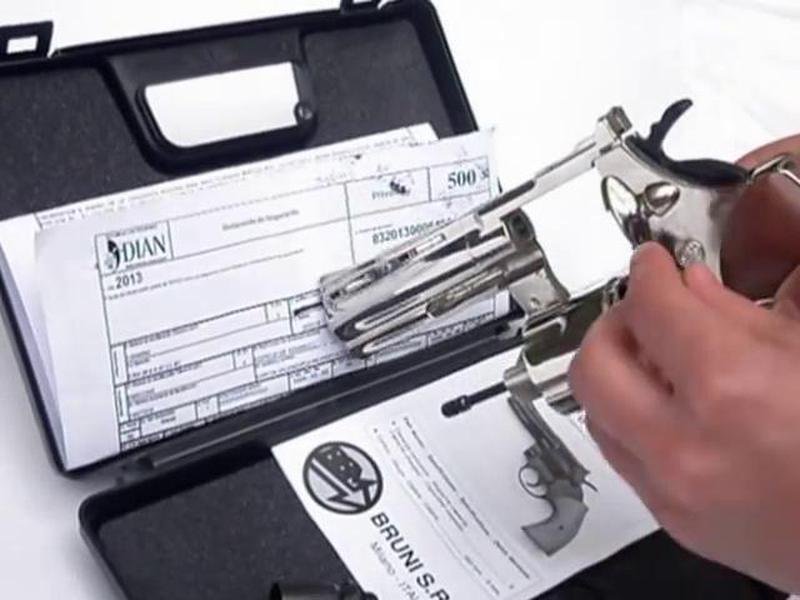Revolver: (308, 106, 800, 415)
